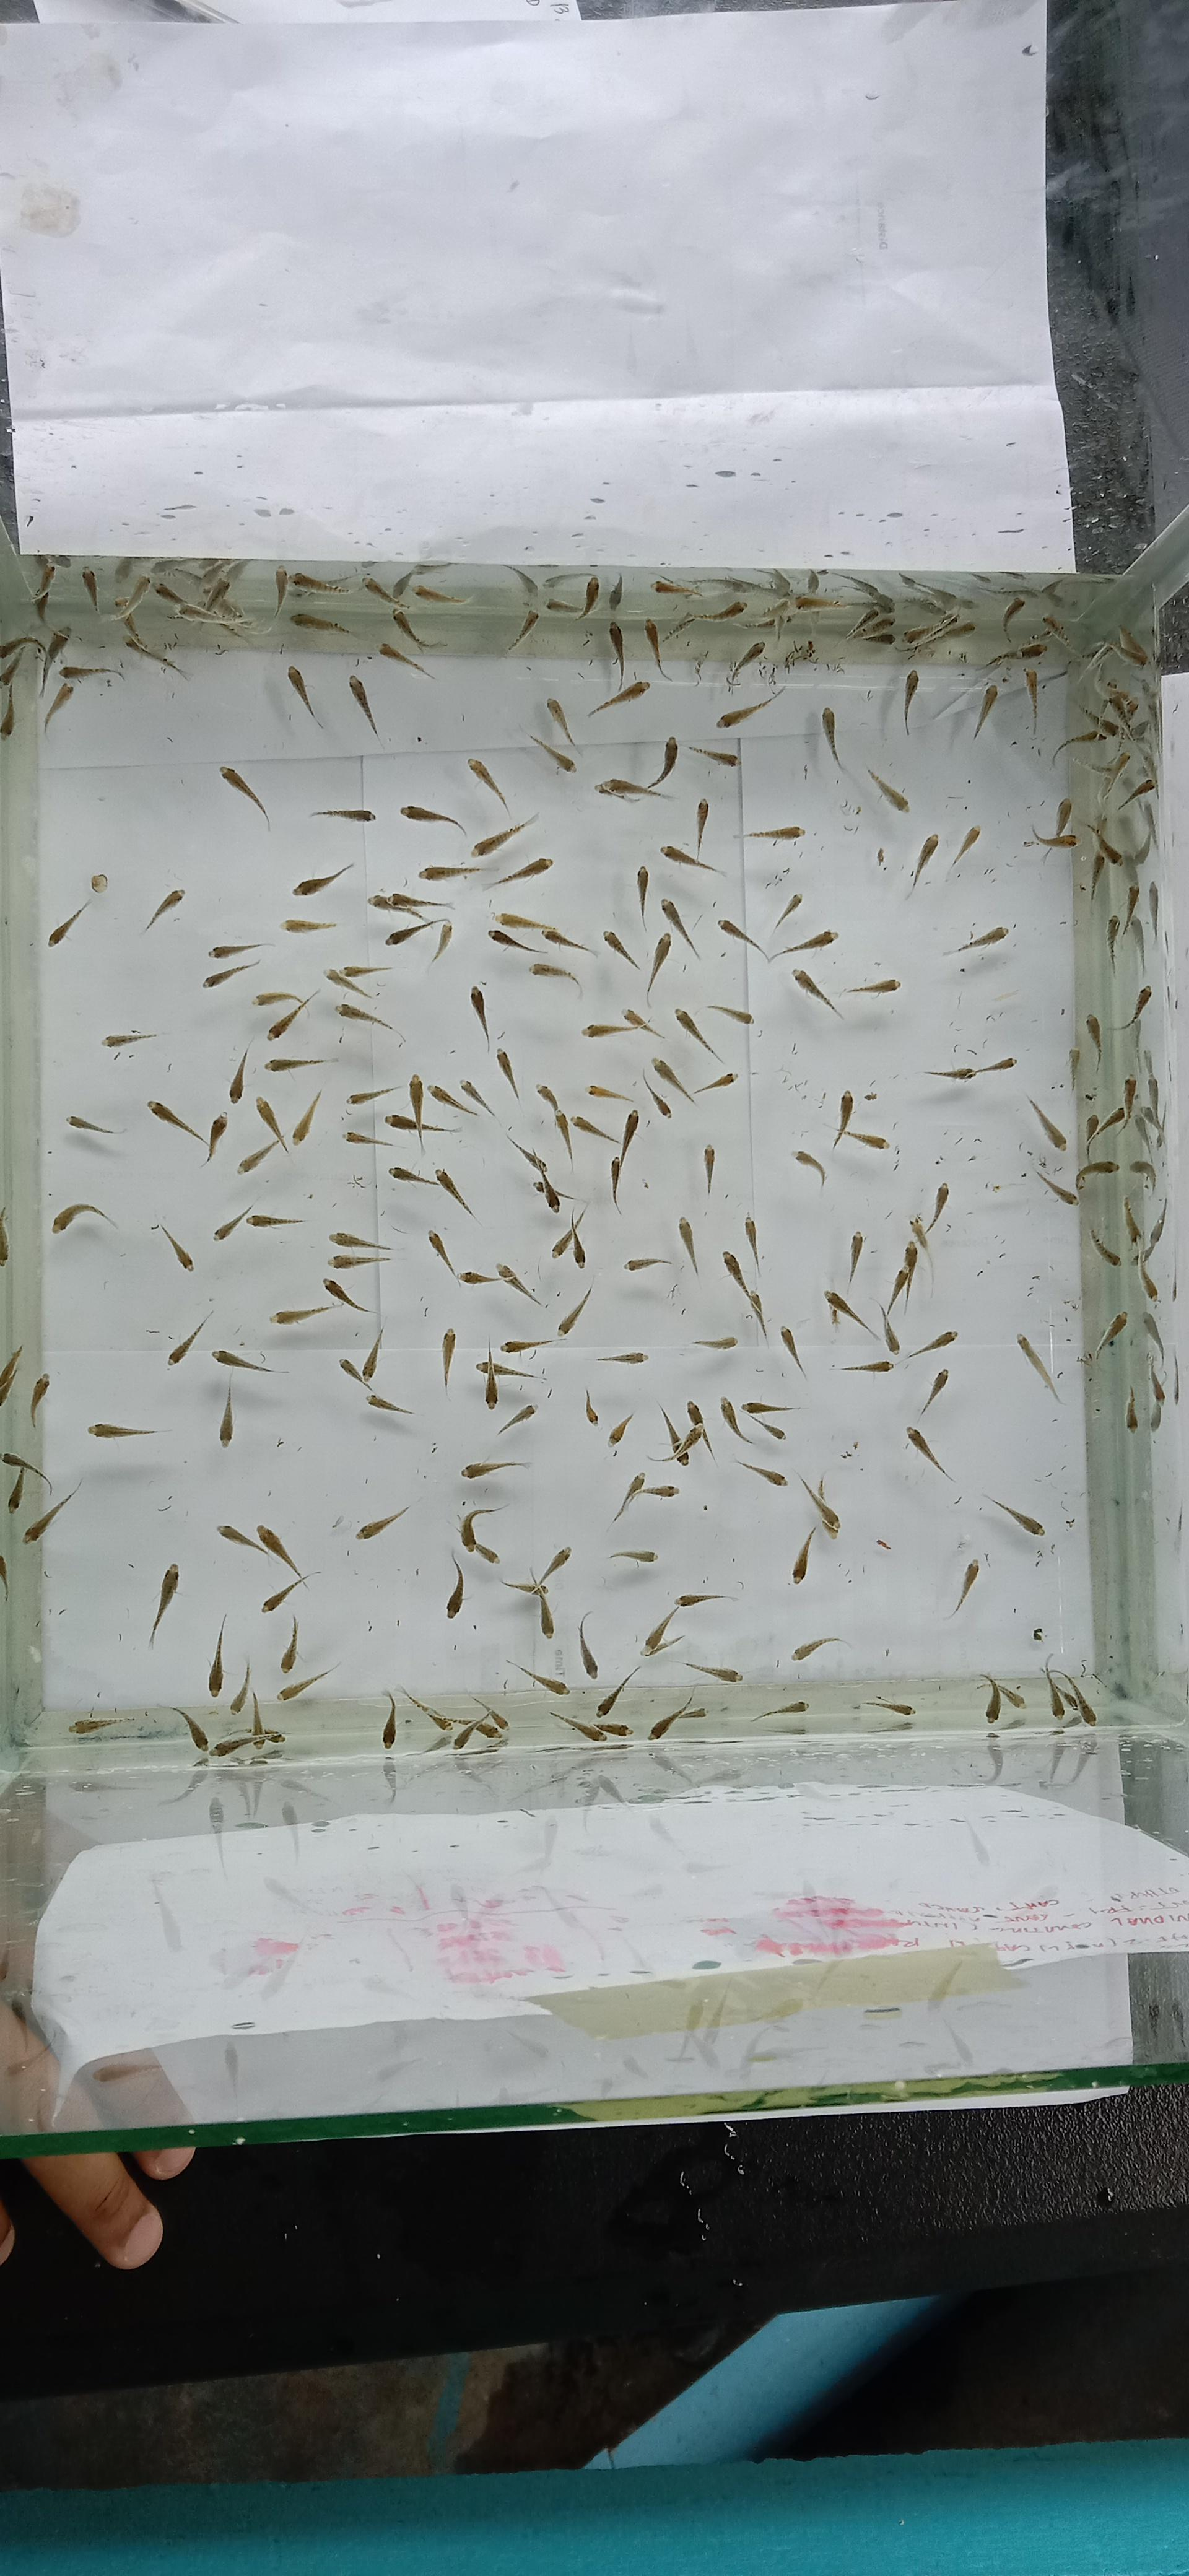fingerling: (218, 1523, 319, 1614), (504, 565, 605, 652), (419, 810, 539, 882), (718, 891, 837, 962), (398, 1685, 509, 1753), (443, 1505, 505, 1619), (572, 1110, 640, 1210), (487, 926, 582, 997), (973, 666, 1064, 739), (153, 578, 253, 642), (641, 1592, 736, 1658), (502, 1286, 593, 1354), (587, 620, 650, 718), (363, 575, 443, 650), (469, 983, 520, 1099), (790, 1475, 840, 1586), (207, 1690, 285, 1762), (596, 735, 680, 801), (660, 796, 727, 876), (819, 705, 869, 808), (907, 1181, 949, 1296), (388, 1163, 474, 1217), (1, 637, 46, 737), (170, 1706, 251, 1762), (505, 1133, 562, 1211), (497, 910, 595, 955), (647, 1400, 713, 1466), (338, 1357, 412, 1414), (721, 1250, 767, 1338), (1033, 1159, 1119, 1206), (238, 1097, 289, 1174), (23, 1482, 81, 1544), (933, 681, 998, 736), (123, 627, 188, 679), (832, 1090, 887, 1151), (219, 765, 270, 830), (1045, 1663, 1097, 1726), (534, 1083, 575, 1164), (777, 593, 849, 638), (1016, 1333, 1062, 1402), (502, 1577, 556, 1637), (668, 599, 746, 639), (475, 1357, 539, 1406), (503, 1546, 570, 1593), (823, 1289, 881, 1342), (609, 1110, 640, 1209), (212, 1208, 304, 1242), (472, 811, 539, 856), (1027, 796, 1078, 855), (1104, 751, 1154, 810), (902, 616, 974, 656), (581, 1006, 665, 1041), (673, 1007, 724, 1064), (905, 1425, 954, 1483), (4, 1451, 51, 1510), (148, 1563, 180, 1647), (383, 1112, 453, 1151), (147, 1099, 207, 1144), (261, 1570, 323, 1613), (267, 988, 320, 1039), (975, 1673, 1025, 1725), (659, 897, 702, 959), (791, 967, 842, 1019), (647, 1697, 705, 1741), (459, 1506, 504, 1563), (798, 1474, 840, 1535), (466, 756, 510, 815), (984, 1495, 1044, 1537), (276, 1663, 340, 1702), (482, 854, 554, 889), (905, 1215, 935, 1297), (588, 678, 649, 718), (925, 1055, 1016, 1082), (256, 1525, 303, 1577), (546, 573, 601, 617), (399, 1686, 453, 1731), (908, 1183, 949, 1242), (178, 601, 246, 637), (336, 1001, 401, 1038), (339, 1333, 383, 1387), (286, 665, 323, 729), (594, 1668, 642, 1718), (392, 560, 451, 599), (392, 606, 445, 650), (1026, 1095, 1067, 1151), (167, 1315, 211, 1366), (208, 1732, 285, 1761), (624, 1257, 678, 1299), (292, 861, 354, 897), (507, 1661, 568, 1697), (650, 1055, 695, 1103), (943, 922, 1009, 955), (1052, 728, 1112, 764), (369, 890, 452, 916), (51, 1202, 117, 1235), (769, 929, 838, 960), (717, 917, 767, 960), (660, 843, 725, 876), (1082, 1104, 1127, 1152), (716, 692, 777, 728), (347, 674, 380, 739), (433, 1166, 474, 1217), (641, 1606, 682, 1656), (0, 637, 45, 684), (1106, 882, 1138, 947), (378, 640, 433, 678), (248, 1692, 285, 1747), (795, 570, 845, 610), (406, 1073, 433, 1148), (741, 1400, 793, 1440), (887, 1242, 917, 1312), (385, 915, 448, 947), (154, 1222, 194, 1272), (550, 1210, 587, 1264), (1089, 1310, 1128, 1362), (426, 1082, 482, 1118), (496, 1262, 541, 1306), (866, 766, 909, 812), (48, 900, 90, 946), (596, 777, 673, 802), (527, 733, 575, 772), (984, 640, 1045, 671), (400, 803, 465, 832), (727, 638, 765, 687), (211, 1348, 282, 1374), (357, 1505, 410, 1540), (170, 1707, 210, 1752), (255, 1097, 289, 1152), (908, 832, 939, 890), (529, 962, 581, 997), (611, 1473, 646, 1524), (556, 1287, 592, 1337), (549, 1712, 606, 1743), (289, 568, 357, 595), (822, 570, 882, 600), (682, 1399, 713, 1458), (948, 1560, 980, 1617), (1115, 983, 1152, 1030), (741, 598, 791, 633), (726, 568, 791, 596), (544, 697, 578, 748), (144, 887, 184, 931), (718, 1396, 755, 1444), (323, 1276, 370, 1313), (291, 1089, 322, 1145), (43, 681, 76, 732), (849, 605, 895, 642), (487, 926, 544, 955), (427, 1230, 459, 1281), (154, 580, 198, 618), (1103, 686, 1141, 730), (203, 959, 261, 988), (905, 1329, 956, 1362), (1032, 1168, 1078, 1205), (237, 1138, 283, 1174), (934, 684, 977, 722), (506, 1132, 546, 1172), (645, 932, 672, 993), (1076, 705, 1120, 741), (643, 618, 670, 678), (649, 734, 679, 786), (219, 1525, 267, 1557), (733, 1458, 787, 1487), (1089, 820, 1124, 864), (207, 1616, 227, 1696), (570, 1113, 621, 1144), (1112, 623, 1149, 665), (290, 611, 351, 635), (601, 929, 638, 970), (542, 927, 597, 955), (577, 1609, 599, 1679), (459, 1078, 497, 1117), (790, 1528, 816, 1585), (918, 1367, 949, 1416), (640, 1073, 672, 1118), (1043, 1665, 1069, 1721), (474, 1358, 540, 1380), (469, 983, 490, 1050), (329, 1230, 391, 1254), (31, 562, 55, 622), (87, 1422, 165, 1440), (32, 558, 66, 600), (461, 1459, 529, 1479), (973, 682, 998, 738), (949, 824, 980, 868), (362, 575, 404, 608), (494, 1048, 521, 1100), (500, 562, 538, 599), (778, 1325, 806, 1375), (508, 608, 540, 650), (1087, 1226, 1120, 1267), (683, 1661, 740, 1685), (0, 1346, 24, 1403), (325, 968, 372, 997), (748, 1702, 808, 1724), (228, 1660, 252, 1714), (820, 706, 842, 767), (444, 1552, 464, 1619), (472, 1704, 510, 1739), (791, 1149, 825, 1187), (385, 1113, 448, 1133), (419, 863, 489, 881), (790, 1637, 842, 1662), (272, 1305, 333, 1326), (771, 891, 803, 931), (498, 910, 555, 933), (212, 1208, 250, 1241), (206, 1733, 251, 1761), (69, 1715, 125, 1738), (59, 663, 120, 684), (411, 584, 471, 605), (459, 1508, 487, 1554), (677, 1216, 698, 1274), (228, 1045, 250, 1102), (832, 1090, 854, 1144), (428, 919, 453, 967), (204, 1112, 228, 1164), (622, 1008, 664, 1037), (538, 1547, 570, 1584), (671, 1425, 702, 1463), (497, 1404, 536, 1434), (855, 581, 894, 611), (687, 743, 739, 766), (264, 1056, 338, 1072), (878, 1300, 900, 1353), (103, 1030, 156, 1052), (279, 1616, 299, 1674), (533, 1171, 561, 1211), (900, 622, 938, 652), (347, 1085, 401, 1106), (329, 1251, 390, 1269), (1075, 1160, 1118, 1186), (864, 1697, 914, 1719), (861, 597, 895, 630), (693, 1071, 737, 1096), (635, 1475, 678, 1501), (209, 594, 248, 622), (543, 567, 596, 588), (926, 1182, 949, 1229), (1121, 775, 1155, 808), (1001, 594, 1026, 638), (208, 942, 271, 959), (835, 1129, 887, 1150), (554, 1110, 575, 1161), (1079, 853, 1102, 899), (577, 573, 601, 618), (30, 1373, 50, 1426), (779, 1069, 814, 1100), (659, 896, 689, 931), (380, 1692, 398, 1750), (360, 1332, 383, 1380), (759, 596, 793, 627), (365, 1391, 412, 1414), (45, 624, 71, 663), (652, 576, 700, 598), (660, 1406, 681, 1453), (783, 637, 817, 668), (66, 1114, 118, 1134), (664, 612, 699, 642), (902, 669, 918, 733), (388, 1164, 435, 1186), (606, 620, 625, 675), (674, 1591, 736, 1608), (217, 1385, 234, 1445), (743, 824, 803, 840), (440, 1328, 457, 1388), (844, 977, 900, 994), (535, 1588, 555, 1637), (308, 807, 375, 822), (749, 1415, 787, 1441), (1031, 829, 1078, 850), (586, 1082, 634, 1102), (747, 1292, 768, 1339), (597, 778, 644, 798), (450, 1718, 481, 1750), (847, 1230, 865, 1283), (794, 592, 842, 612), (694, 797, 710, 853), (122, 612, 146, 651), (581, 1021, 635, 1038), (742, 1214, 760, 1264), (1123, 1198, 1142, 1247), (866, 1713, 915, 1731), (1105, 749, 1134, 781), (608, 1549, 656, 1567), (608, 1412, 634, 1447), (635, 864, 650, 925), (248, 1692, 266, 1742), (478, 1365, 499, 1408), (502, 1576, 546, 1596), (281, 917, 339, 933), (707, 1004, 752, 1024), (502, 1338, 552, 1355), (246, 1212, 305, 1227), (1126, 1159, 1156, 1188), (998, 1679, 1026, 1709), (339, 1359, 370, 1386), (343, 1129, 394, 1146), (248, 1740, 287, 1762), (552, 1183, 588, 1206), (465, 1692, 496, 1720), (423, 1730, 458, 1754), (907, 1214, 929, 1251), (1042, 612, 1068, 644), (837, 1359, 892, 1374), (741, 1399, 795, 1414), (985, 1712, 1024, 1732), (925, 1065, 977, 1081), (721, 1250, 744, 1285), (983, 1682, 1001, 1725), (534, 1083, 560, 1113), (684, 1400, 705, 1437), (710, 599, 746, 620), (408, 1074, 424, 1123), (767, 568, 793, 598), (983, 1175, 1024, 1194), (1024, 668, 1039, 720), (338, 962, 391, 977), (253, 990, 302, 1006), (1123, 884, 1138, 932), (81, 567, 99, 608), (1083, 1014, 1101, 1056), (7, 1469, 25, 1511), (388, 1221, 430, 1238), (697, 1426, 716, 1464), (772, 606, 791, 644), (461, 1504, 507, 1520), (701, 1146, 716, 1194), (724, 574, 762, 593), (111, 1043, 151, 1061), (609, 1155, 623, 1207), (1054, 797, 1073, 835), (1104, 913, 1120, 959), (760, 866, 791, 889), (273, 565, 288, 612), (250, 1728, 286, 1747), (474, 1340, 492, 1378), (624, 1256, 670, 1271), (596, 1720, 633, 1739), (740, 615, 779, 632), (1124, 1388, 1139, 1431), (978, 1055, 1016, 1073), (471, 1540, 500, 1563), (857, 629, 896, 645), (946, 620, 977, 641), (598, 1350, 645, 1364), (692, 1335, 737, 1349), (368, 892, 404, 910), (385, 1113, 422, 1129), (691, 651, 711, 682), (1017, 638, 1047, 659), (570, 1229, 587, 1265), (458, 1269, 495, 1285), (608, 574, 624, 612), (585, 1388, 600, 1425), (33, 590, 50, 624), (546, 597, 578, 614), (869, 594, 895, 614), (0, 1210, 10, 1264), (1122, 1074, 1137, 1110), (644, 1484, 678, 1499), (344, 1170, 371, 1189), (816, 658, 846, 674), (274, 1438, 304, 1453), (89, 872, 109, 894), (837, 1441, 860, 1460), (473, 1357, 498, 1374), (155, 1492, 175, 1512), (804, 569, 820, 593), (0, 1556, 9, 1598), (874, 843, 887, 870), (889, 1143, 900, 1170), (860, 1088, 880, 1101), (873, 1537, 889, 1549)
